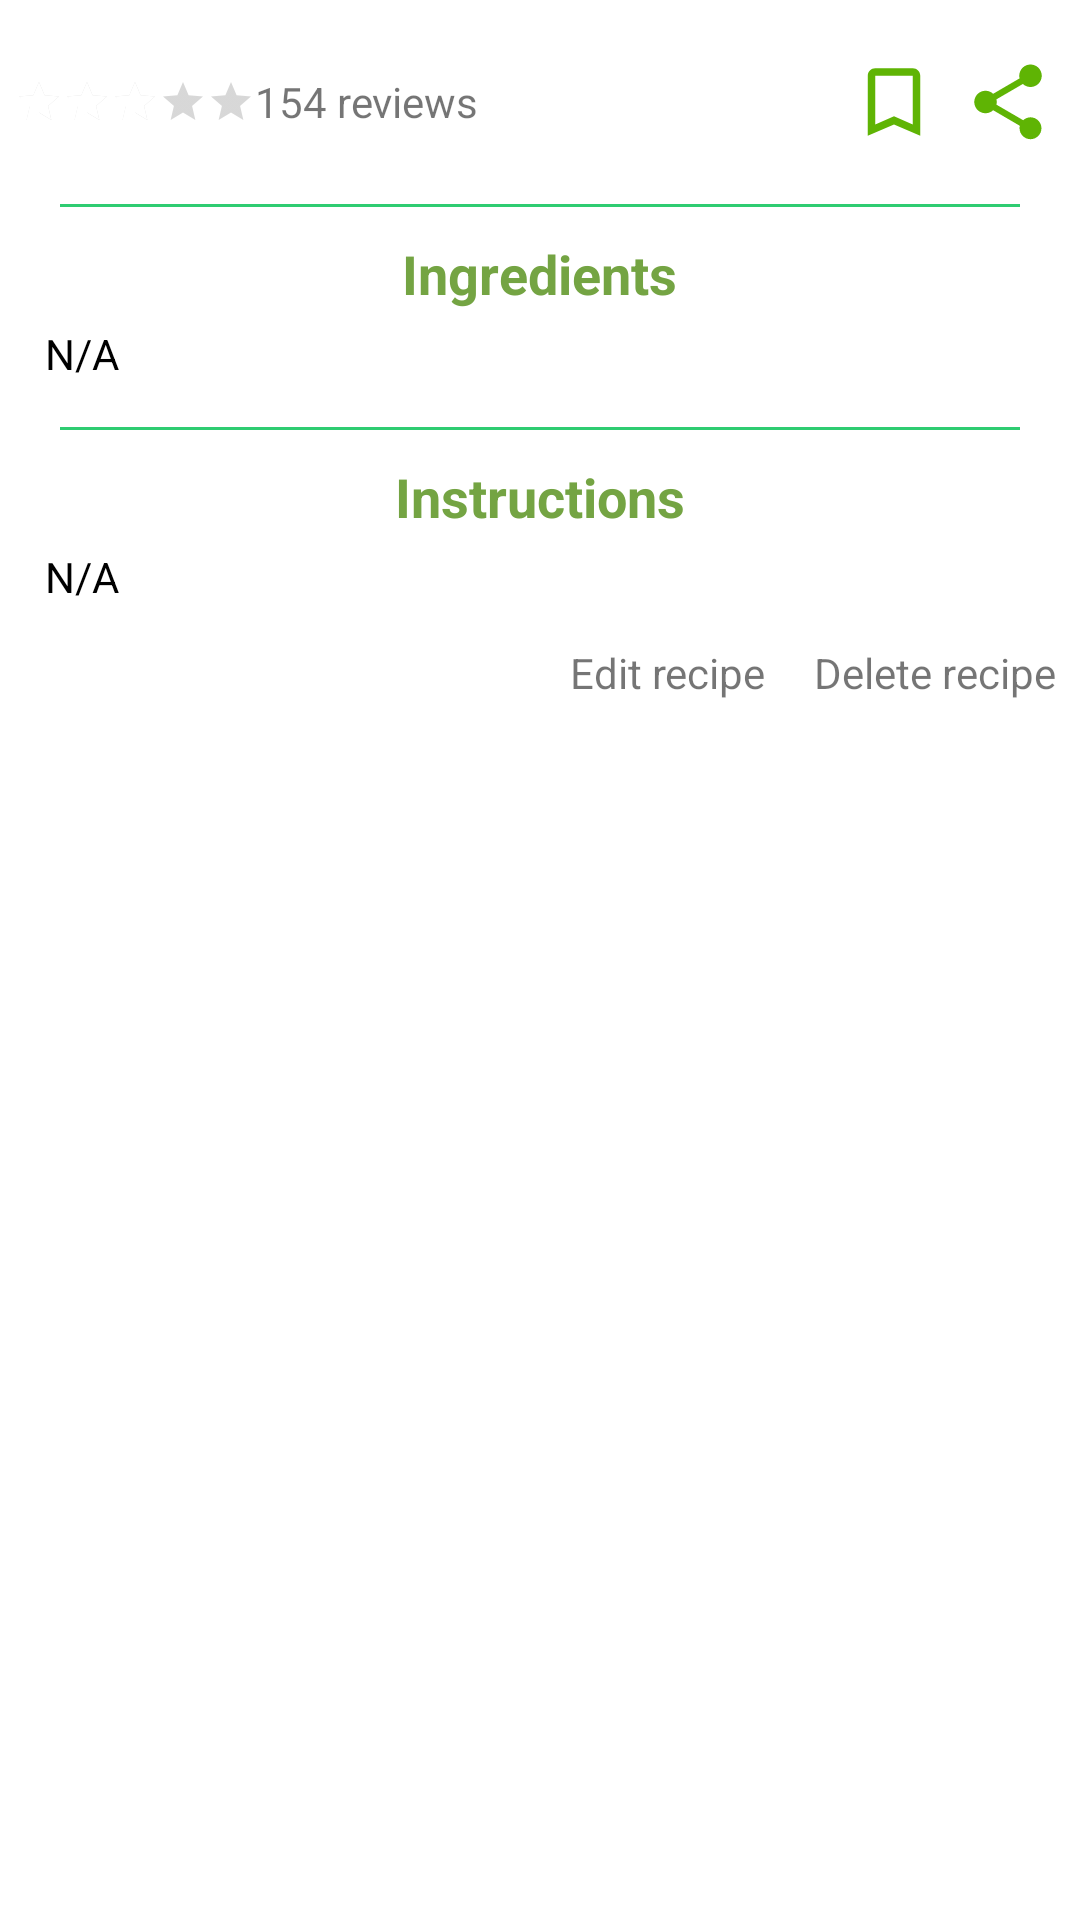

Where to tap for icons on this 1080x1920 app screen, as (x=x, y=y):
bookmark: (x=894, y=102)
share: (x=1008, y=102)
